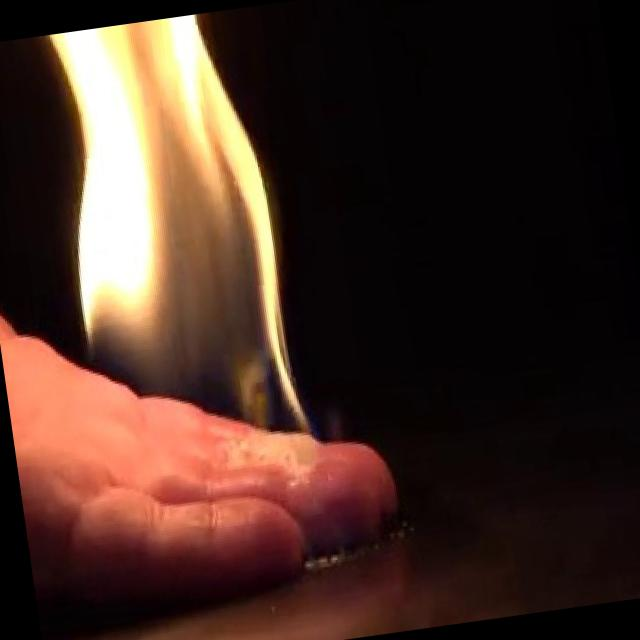Fire: (41, 4, 332, 510)
